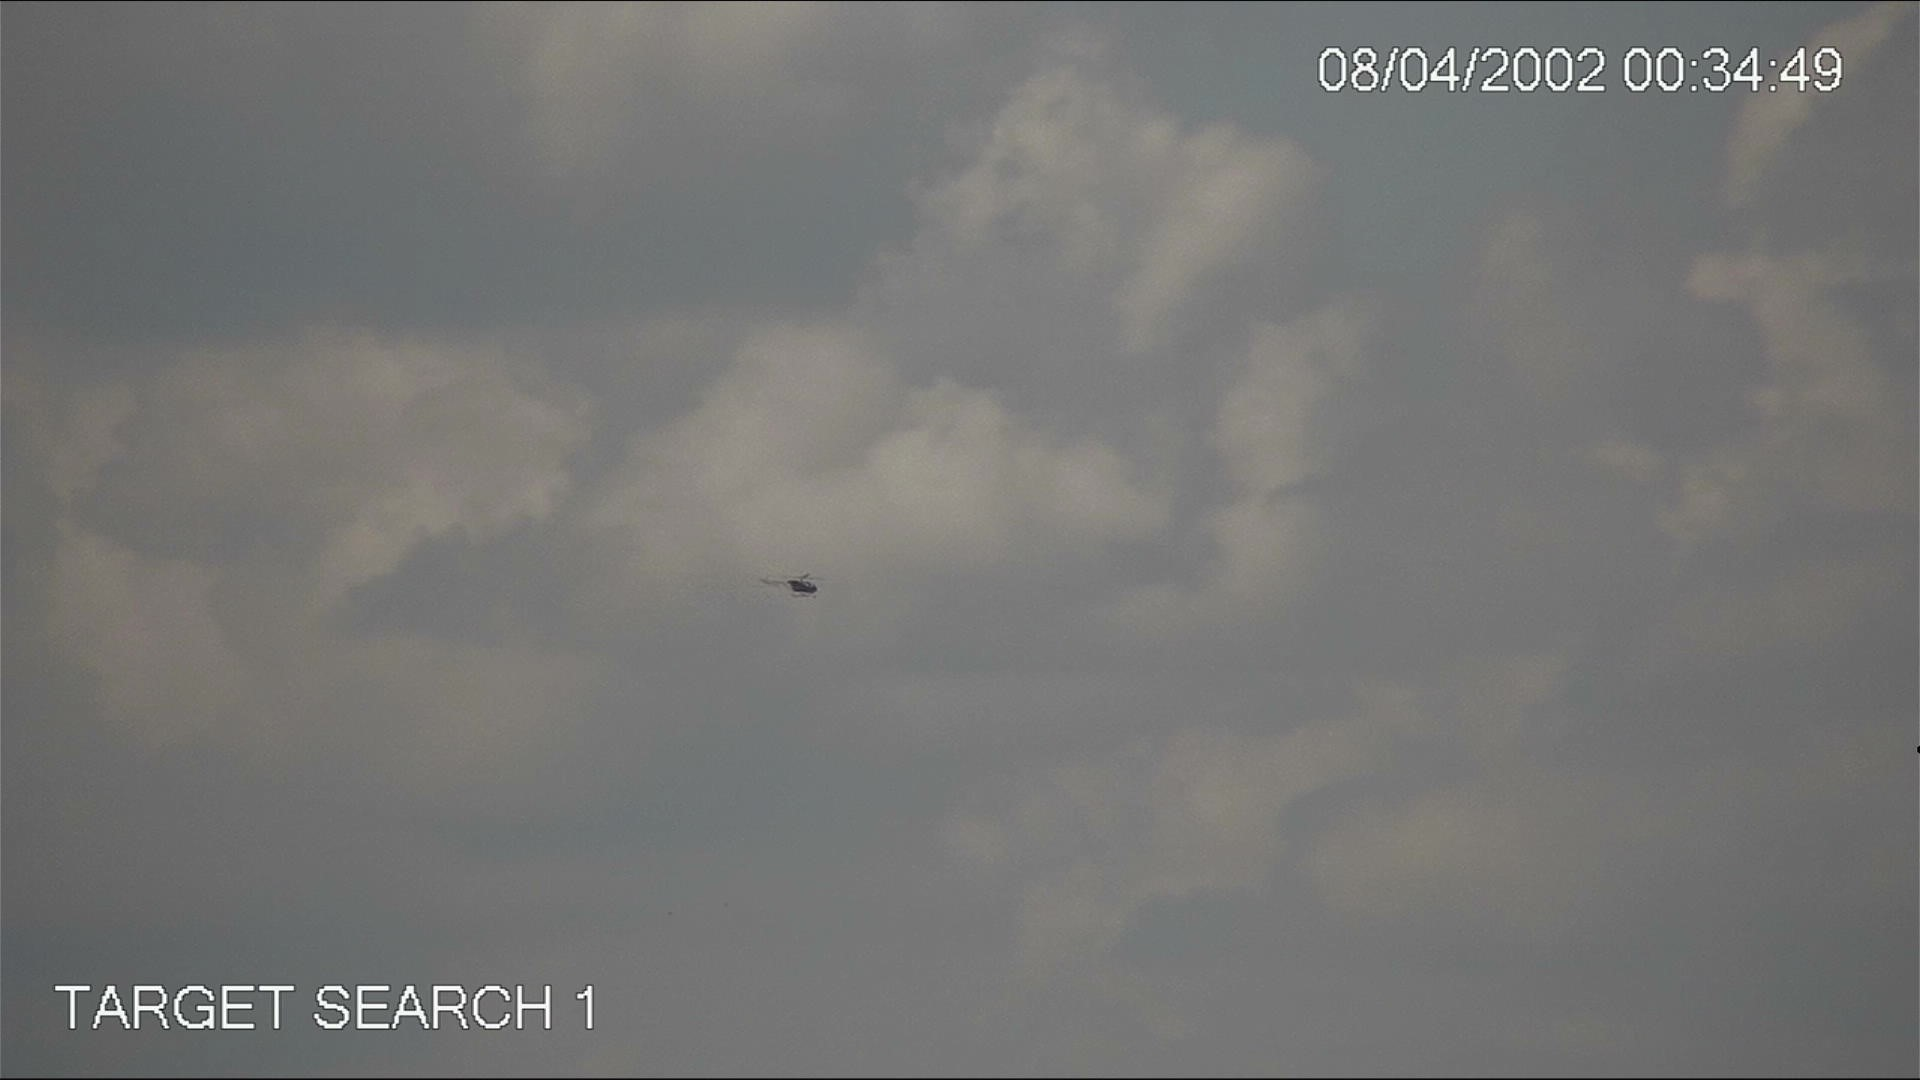SU_30: (758, 571, 833, 604)
